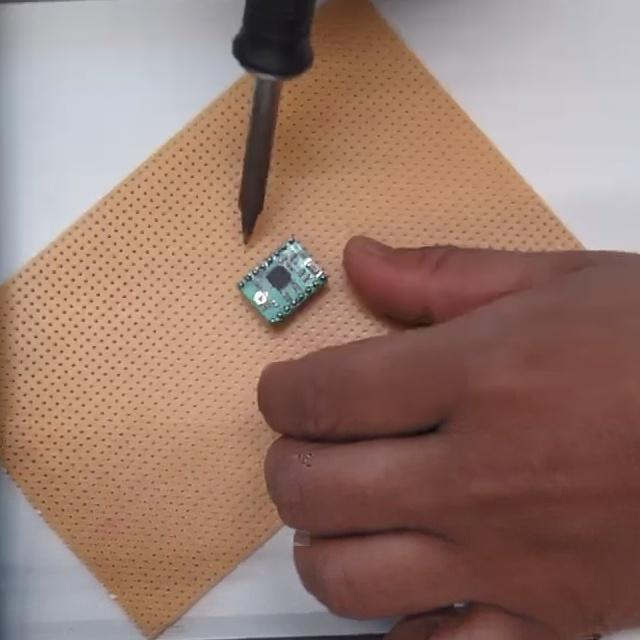Chip: (232, 236, 333, 334)
soldering_iron: (235, 1, 314, 243)
